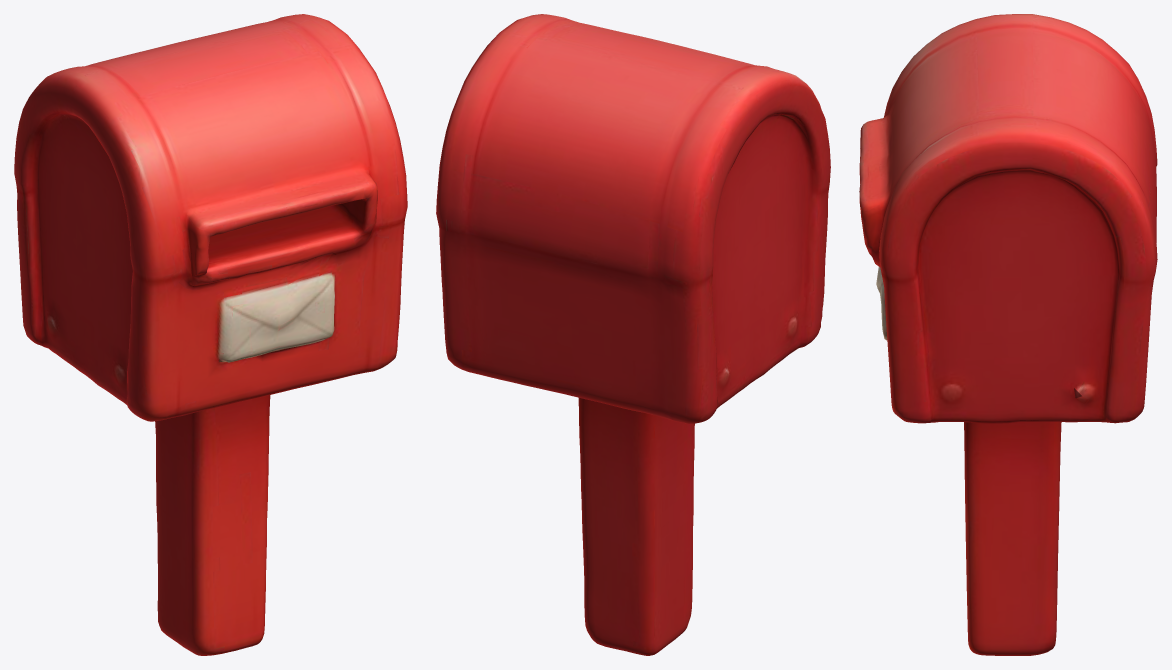
The model's file is mailbox-red.glb.
The picture shows the model from 3 angles, left to right: view 1: azimuth 30°, elevation 25°; view 2: azimuth 150°, elevation 25°; view 3: azimuth 270°, elevation 25°; orthographic projection. The views are drawn at different scales.
Visible parts, largest first — view 1: tripo_node_53f37d57-79ed-4889-a4b8-97d624b5b265; view 2: tripo_node_53f37d57-79ed-4889-a4b8-97d624b5b265; view 3: tripo_node_53f37d57-79ed-4889-a4b8-97d624b5b265.
Part boxes in pixels (bbox=[...]): tripo_node_53f37d57-79ed-4889-a4b8-97d624b5b265: bbox=[14, 14, 407, 655]; tripo_node_53f37d57-79ed-4889-a4b8-97d624b5b265: bbox=[436, 14, 830, 655]; tripo_node_53f37d57-79ed-4889-a4b8-97d624b5b265: bbox=[859, 14, 1157, 655].
Bounding box in the file's own units: 0.4792 × 0.9989 × 0.4708.
Materials: 1 (1 with a texture image).
